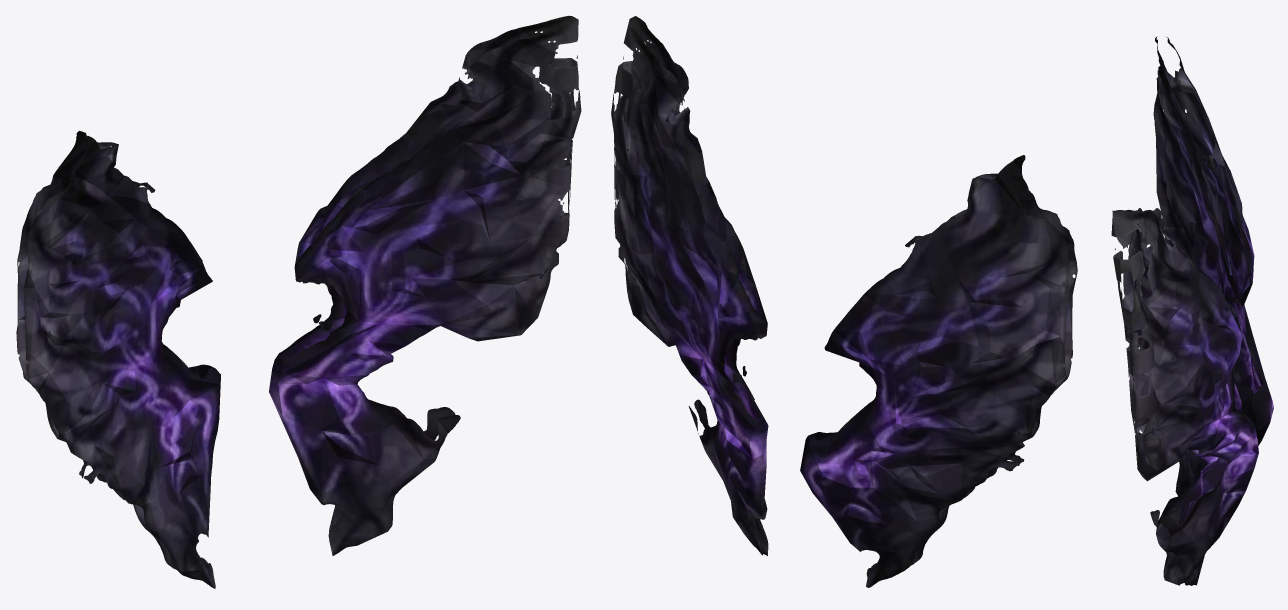
The model's file is voidwings-lite.glb.
3 views of the same model, side by side, from view 1: azimuth 30°, elevation 25°; view 2: azimuth 150°, elevation 25°; view 3: azimuth 270°, elevation 25° (orthographic). The views are drawn at different scales.
Parts seen in each view (by area): view 1: geometry_0; view 2: geometry_0; view 3: geometry_0.
Boxes of the visible parts, x1,y1,x2,y2 form: geometry_0: [16, 15, 581, 588]; geometry_0: [611, 16, 1077, 587]; geometry_0: [1111, 36, 1273, 585].
Size of the model in its own units: 0.9681 by 0.92 by 0.2878.
1 material, 1 textured.
